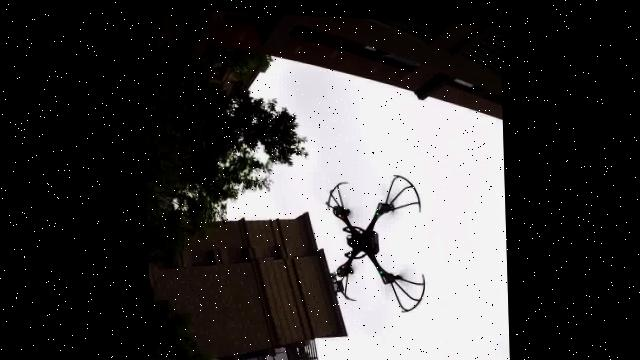drone: (310, 159, 429, 318)
